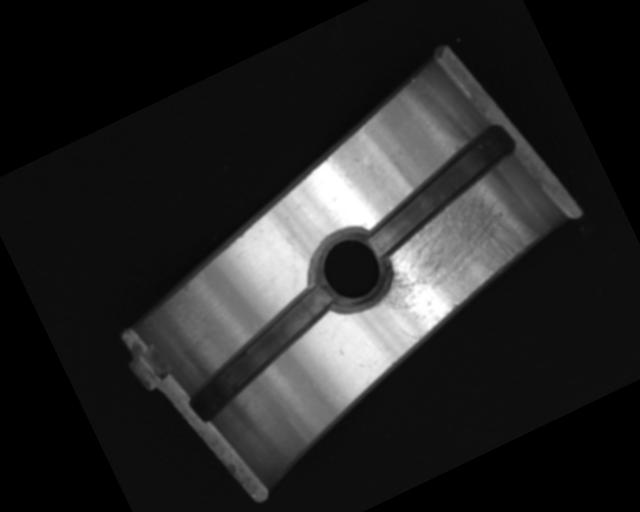gap: (343, 119, 535, 263), (165, 279, 355, 424)
hole: (294, 214, 405, 326)
scratch: (352, 161, 559, 349)
